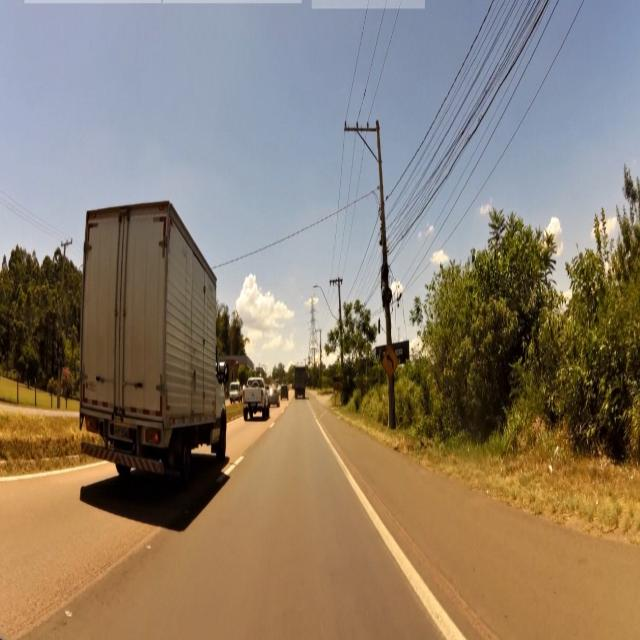A-2a: (380, 345, 400, 377)
